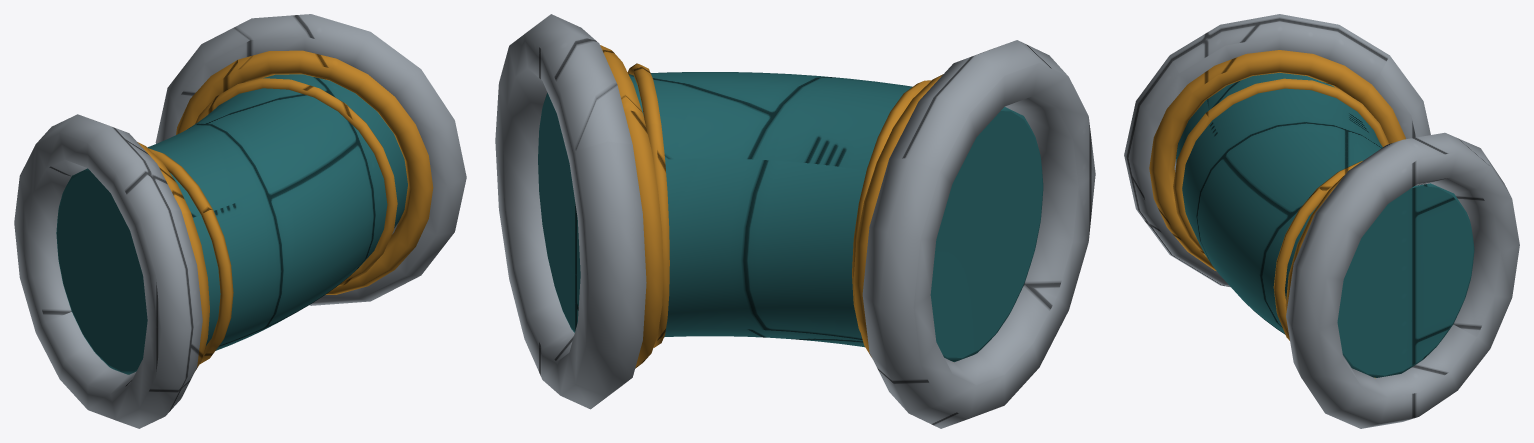
Rendered from pressure_pipe_elbow_45_lod0.glb.
3 views of the same model, side by side, from view 1: azimuth 30°, elevation 25°; view 2: azimuth 150°, elevation 25°; view 3: azimuth 270°, elevation 25° (orthographic). The views are drawn at different scales.
Parts seen in each view (by area): view 1: LOD0_Armor, LOD0_BrushedMetal, LOD0_Livery; view 2: LOD0_BrushedMetal, LOD0_Armor, LOD0_Livery; view 3: LOD0_BrushedMetal, LOD0_Armor, LOD0_Livery.
Part boxes in pixels (x1,y1,x2,y2): LOD0_Armor: (56,74,407,374); LOD0_BrushedMetal: (14,14,466,428); LOD0_Livery: (137,50,433,370); LOD0_BrushedMetal: (495,14,1095,428); LOD0_Armor: (538,72,1043,361); LOD0_Livery: (600,45,943,368); LOD0_BrushedMetal: (1124,14,1519,428); LOD0_Armor: (1176,72,1474,377); LOD0_Livery: (1149,50,1405,378).
Size of the model in its own units: 1.56 by 1.11 by 1.41.
Materials: 3 (3 with a texture image).
